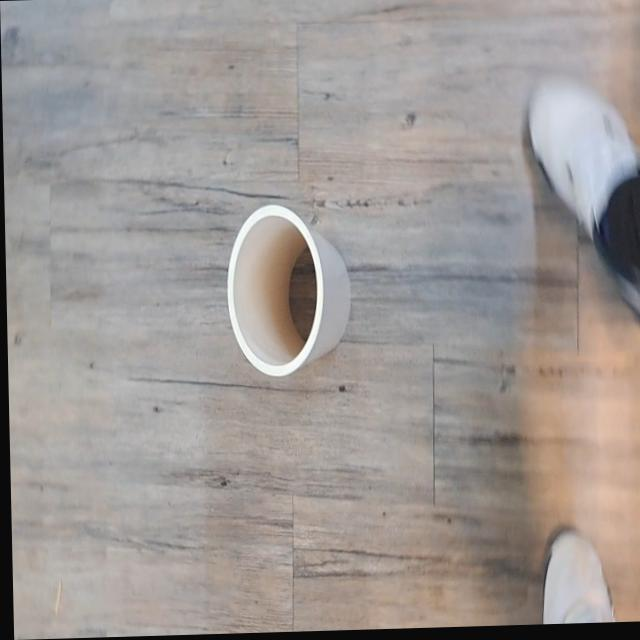CORAL: (212, 161, 365, 411)
